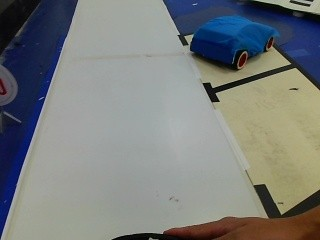car: (190, 15, 276, 71)
